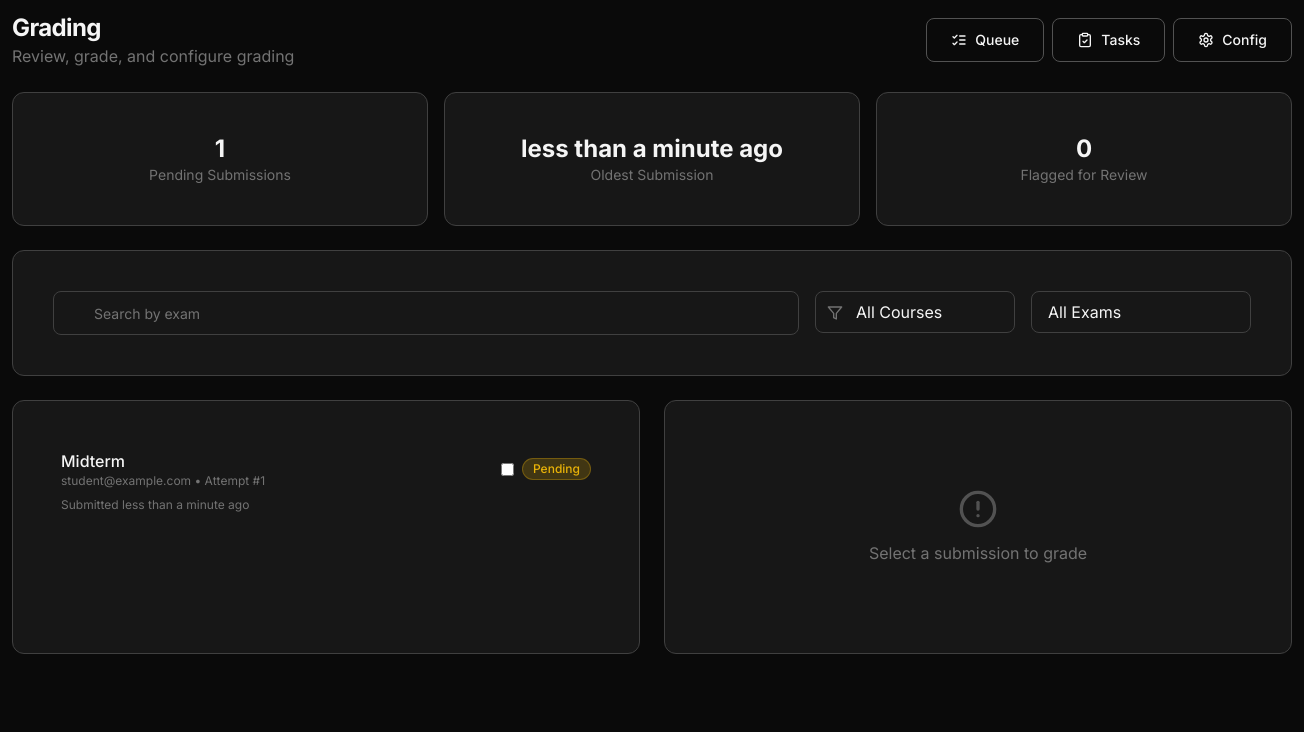
Test case: InstructorGrading › switches to tasks tab
Click the button "Tasks": coordinates (1109, 40) [1052,18,1165,62]
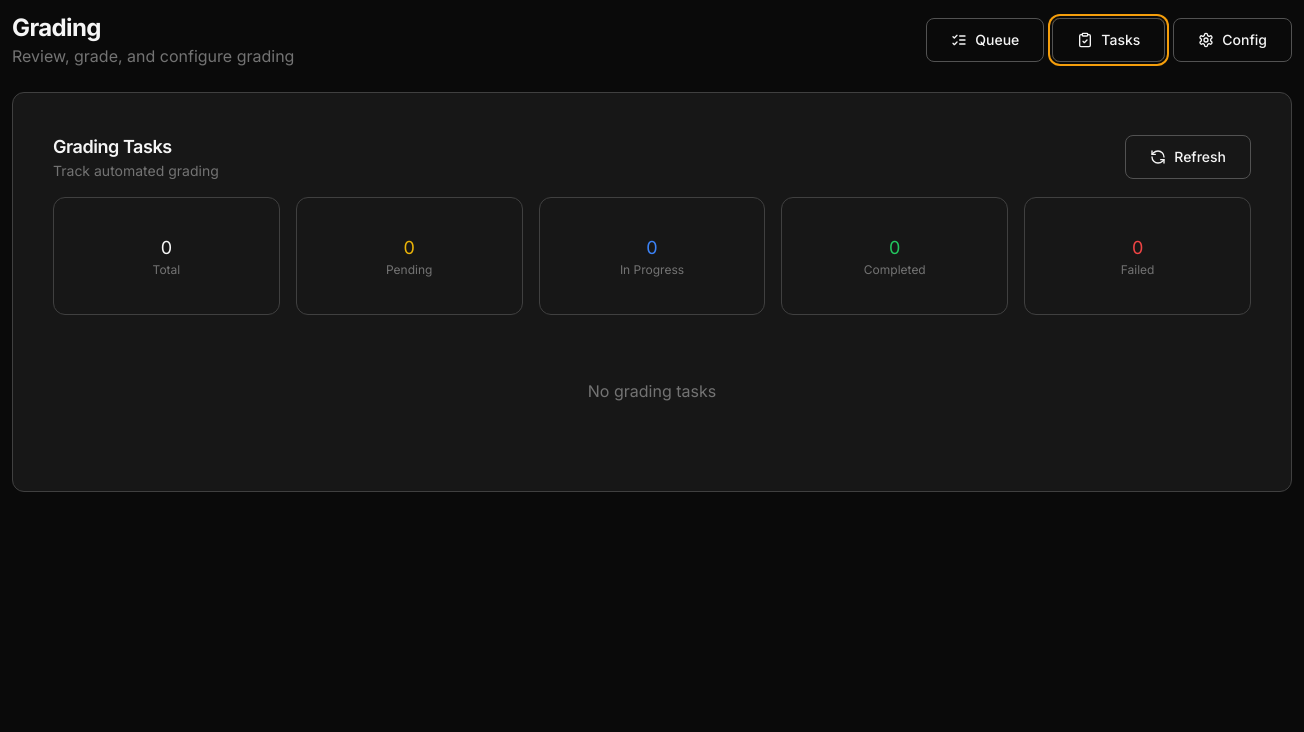
Expected: the heading "Grading Tasks" is shown, [53,136,172,157]
